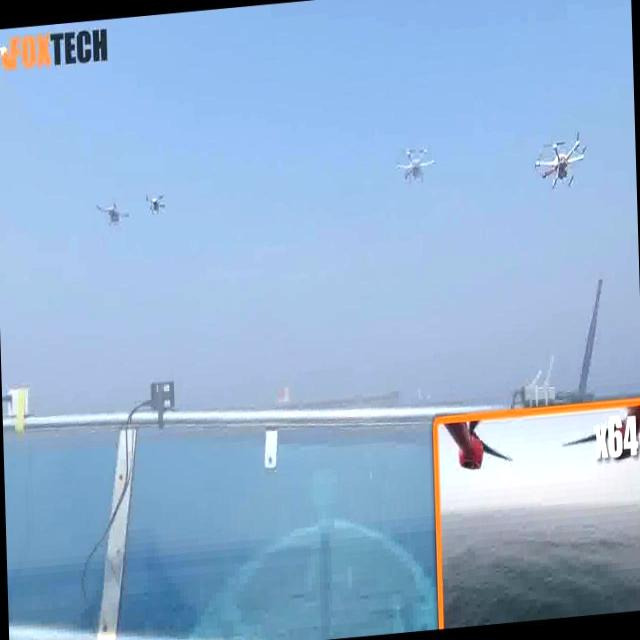drone: (531, 133, 587, 197), (388, 142, 436, 187), (97, 198, 127, 230), (144, 189, 168, 218)
